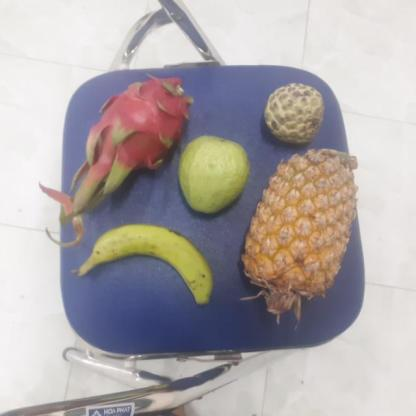annona: (261, 83, 324, 145)
banana: (74, 226, 215, 300)
guava: (173, 136, 248, 212)
pineapple: (242, 150, 353, 297)
pitaya: (89, 76, 188, 176)
